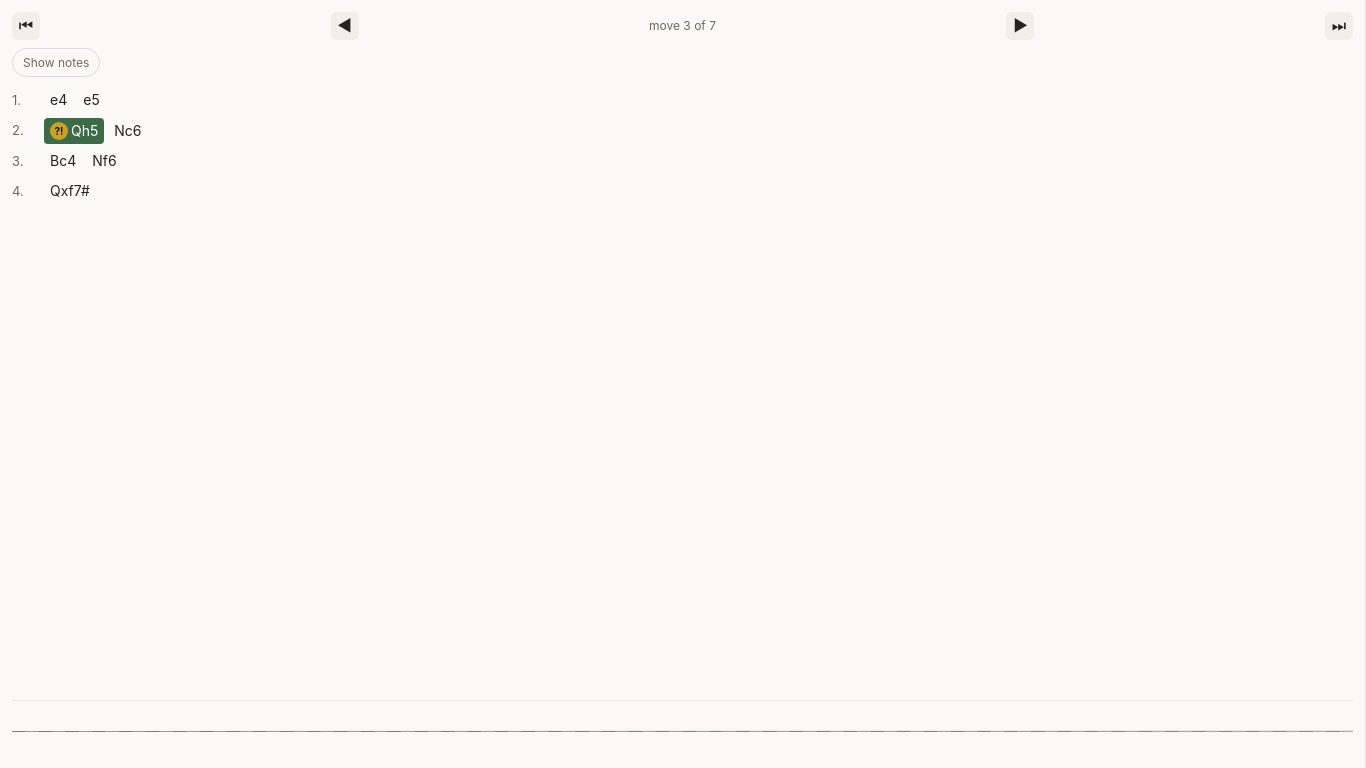
Test: MoveExplorer › a "show notes" toggle reveals a plain-language note for the current non-good move, hidden by default
Expected: the text "better was nf3" is not shown
Click the button "Show notes" at x=56, y=63, box [12, 48, 100, 77]
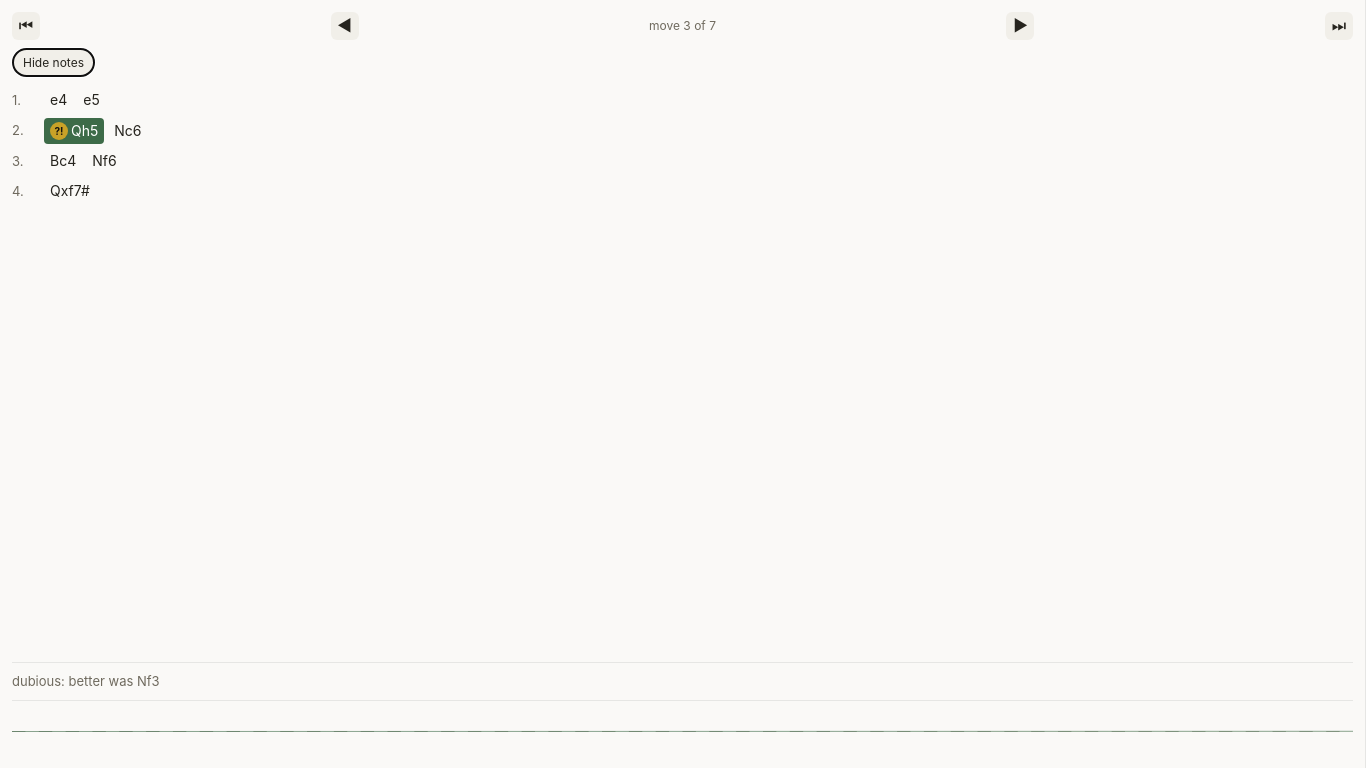
Result: the text "dubious: better was Nf3" is shown at [12, 662, 1353, 692]
